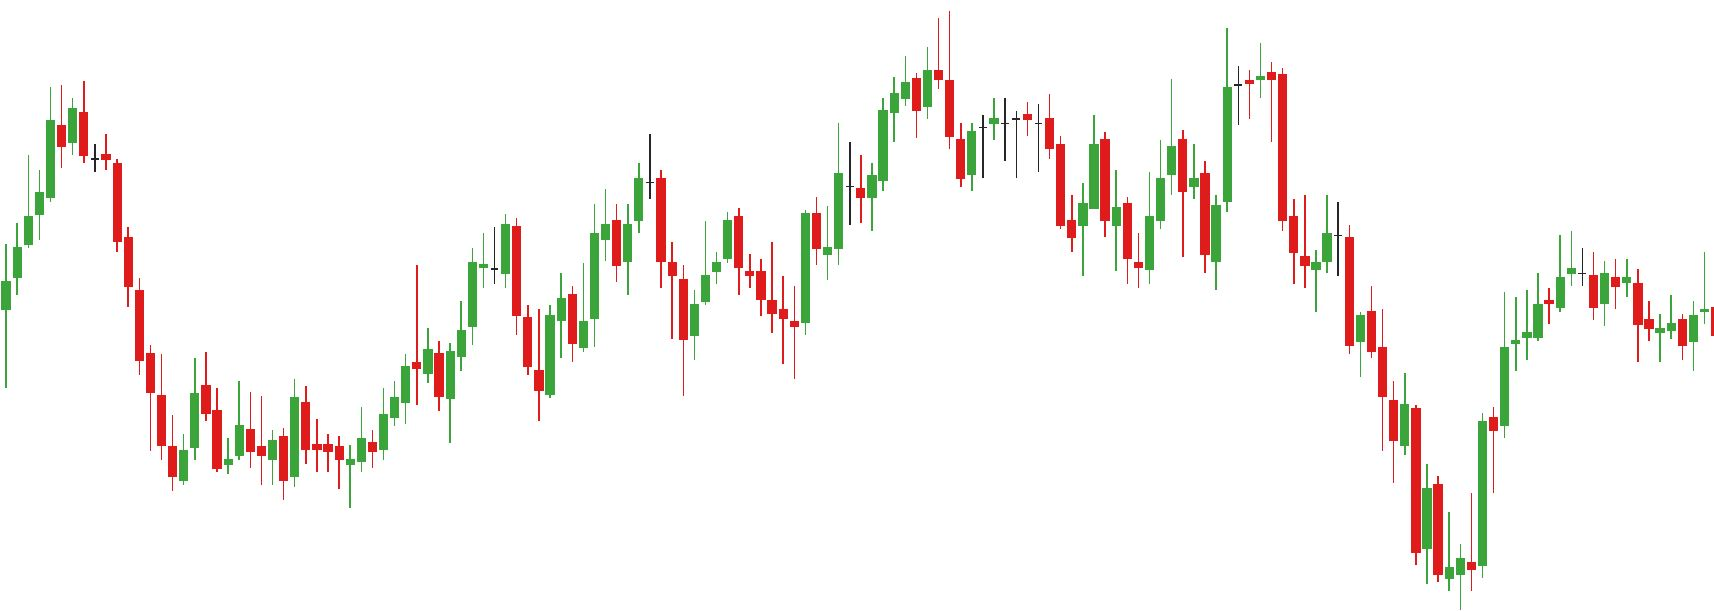buy: (689, 246, 811, 383)
sell: (1165, 28, 1290, 175)
